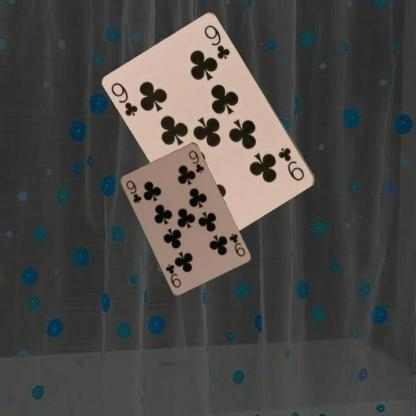9c: (108, 80, 140, 118), (276, 144, 306, 182), (226, 230, 246, 258), (123, 178, 143, 204)
